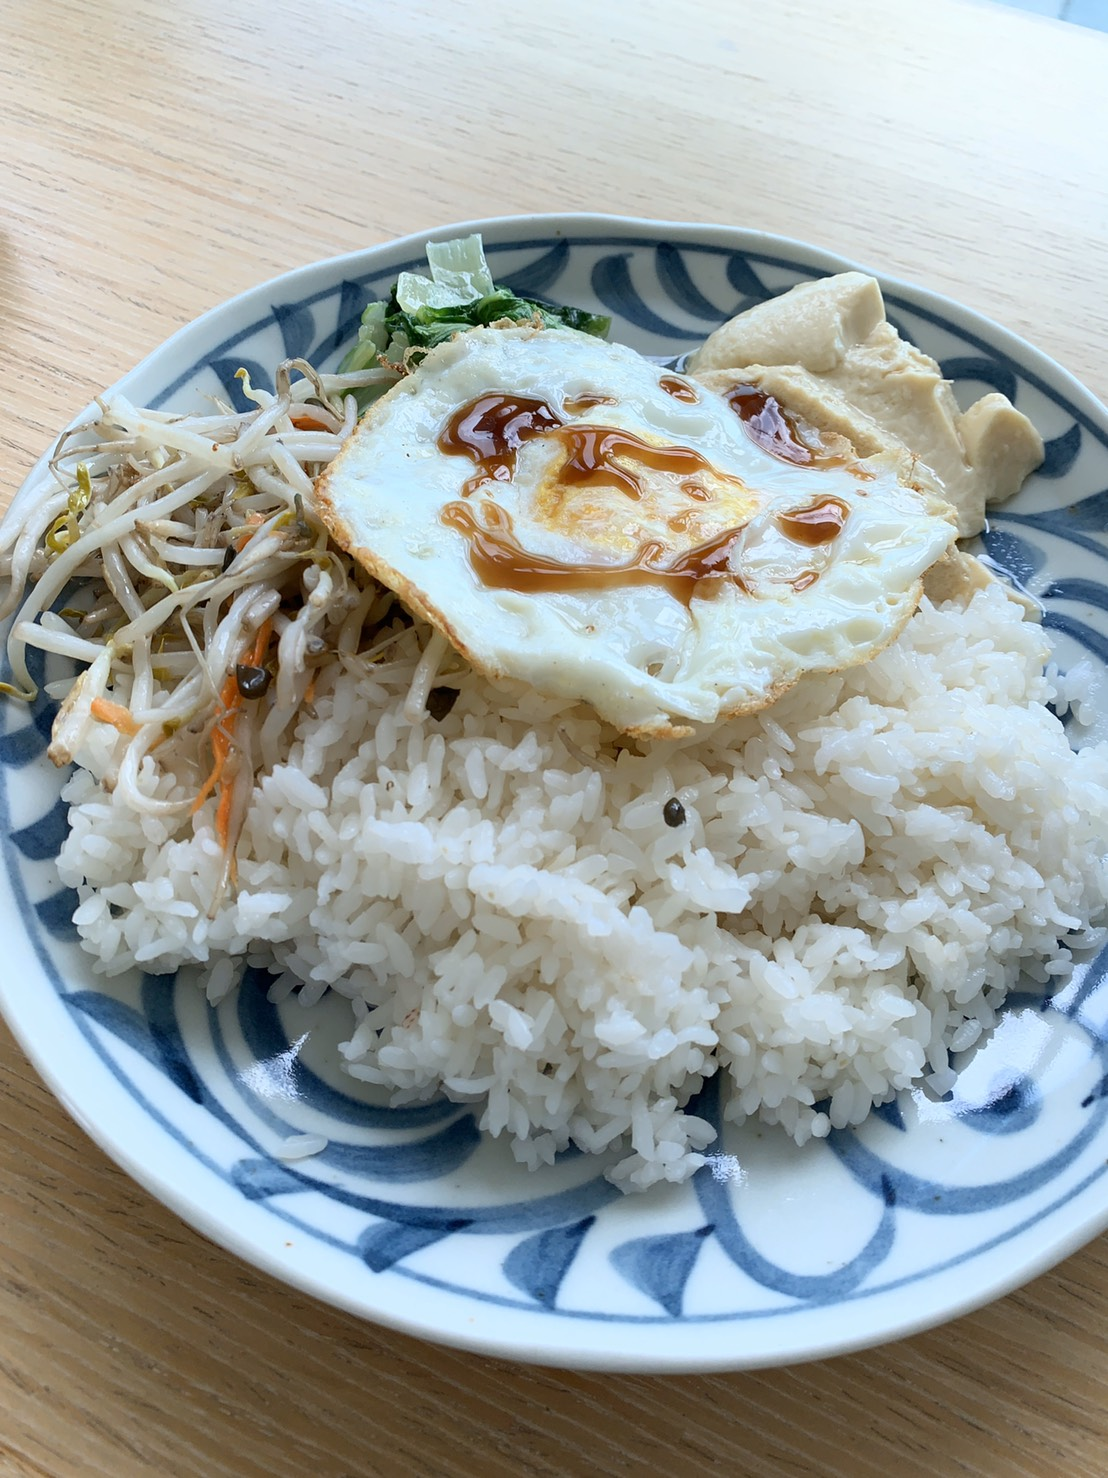fried_eggs: (384, 367, 890, 699)
mung_bean_sprouts: (1, 360, 333, 716)
rice: (246, 734, 1027, 1099)
